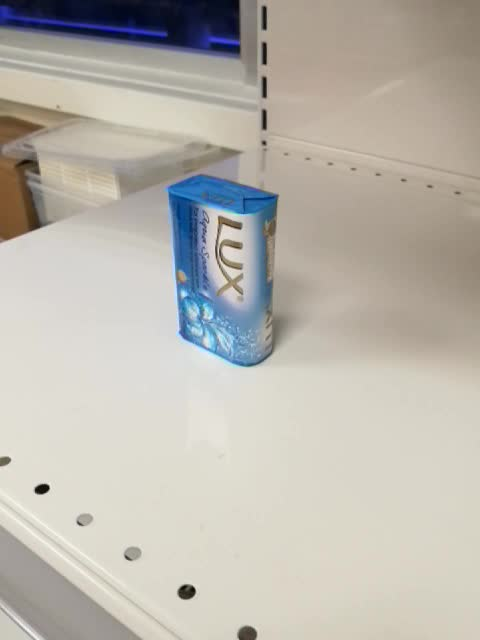soap: (165, 172, 283, 370)
